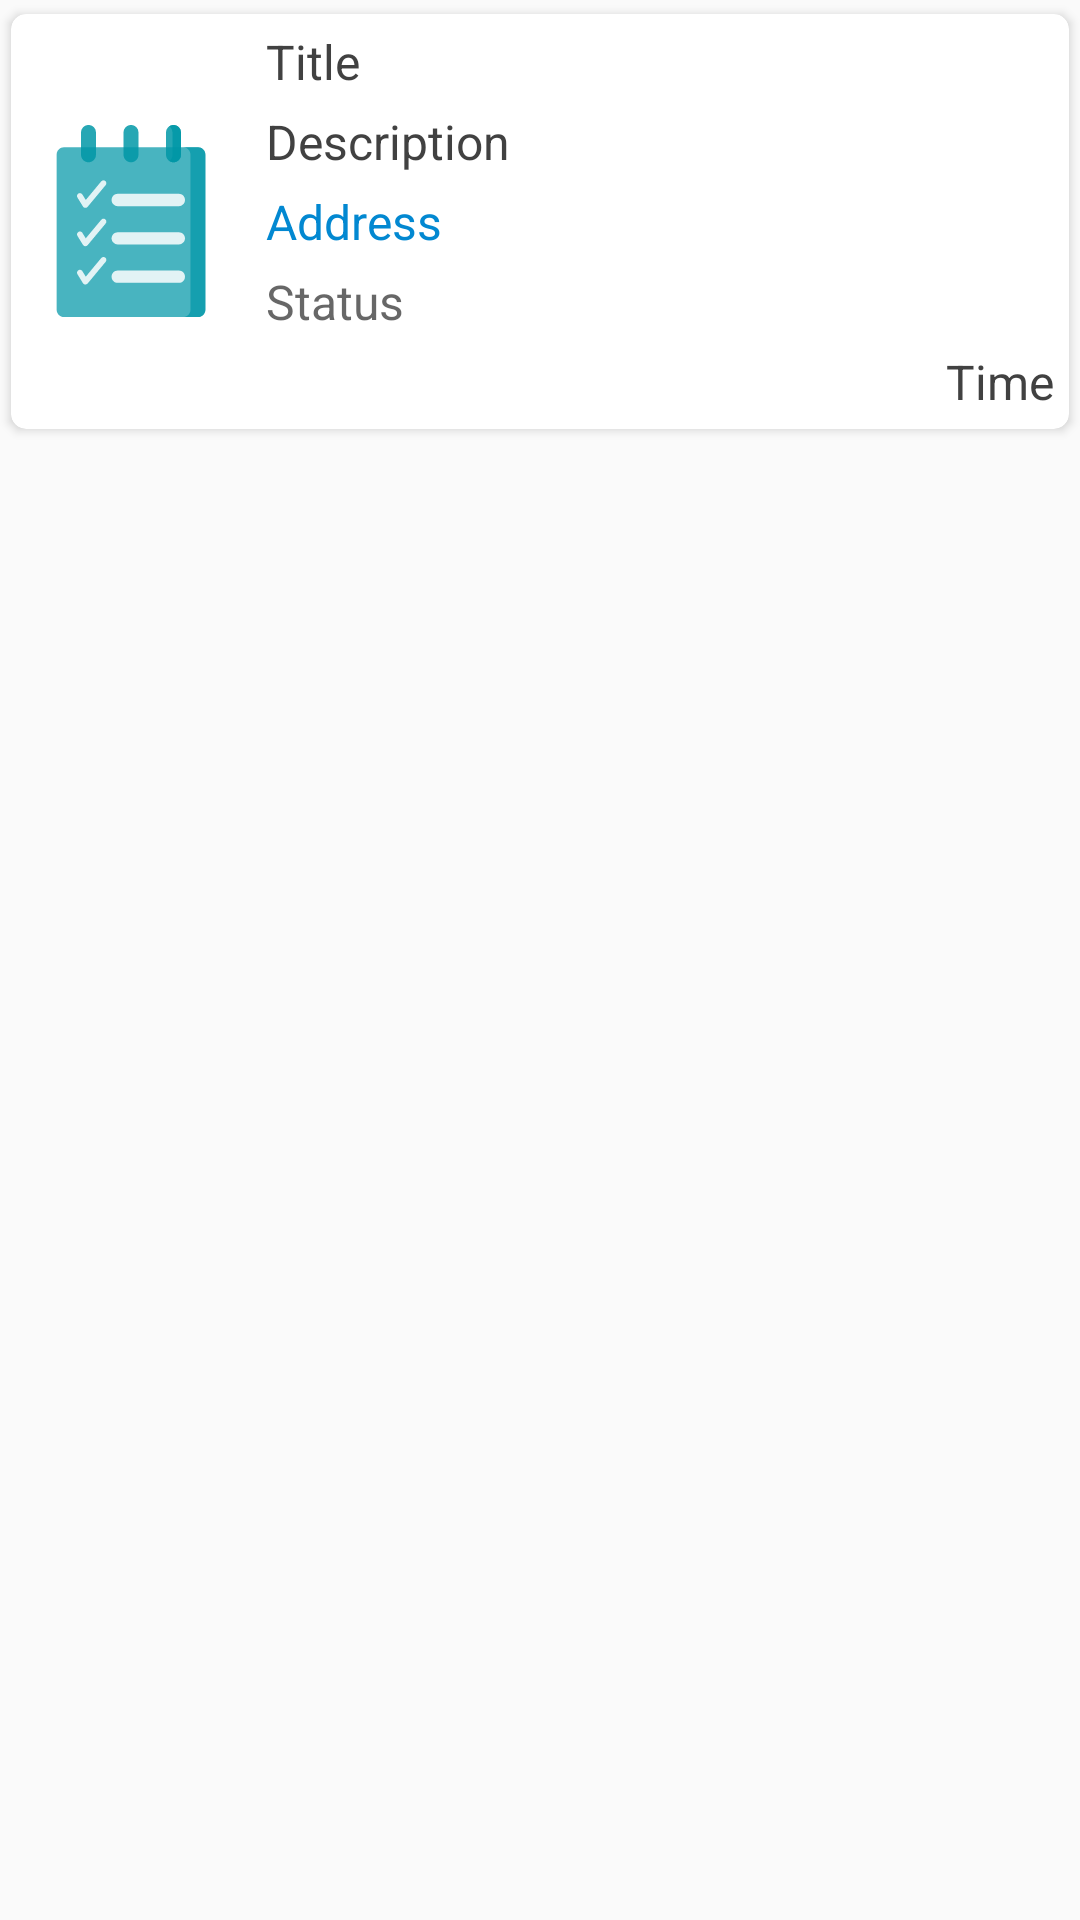

Icon click points for this 1080px x 1920px phone screenshot, format (x,y):
see task list: (131,221)
